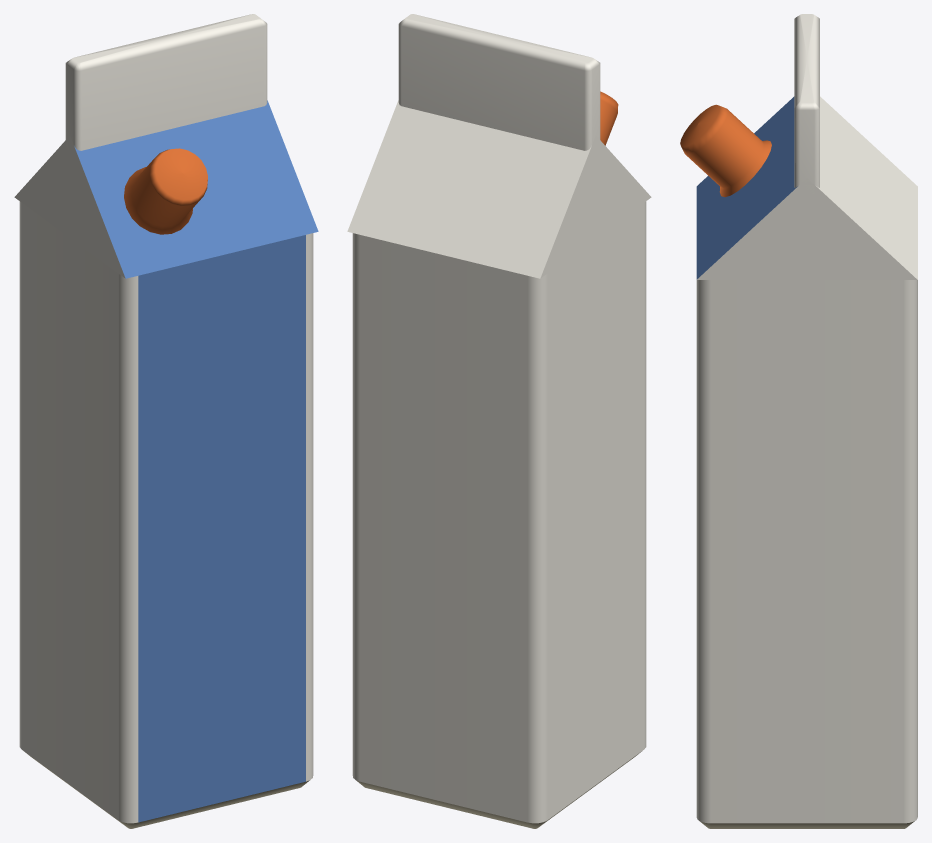
The model's file is carton_milk_1000.glb.
3 views of the same model, side by side, from view 1: azimuth 30°, elevation 25°; view 2: azimuth 150°, elevation 25°; view 3: azimuth 270°, elevation 25° (orthographic).
Visible parts, largest first — view 1: package_mesh; view 2: package_mesh; view 3: package_mesh.
Boxes of the visible parts, left/top/right/bottom form: package_mesh: left=14, top=14, right=318, bottom=828; package_mesh: left=347, top=14, right=651, bottom=828; package_mesh: left=680, top=14, right=917, bottom=828.
Size of the model in its own units: 0.1542 by 0.56 by 0.1656.
